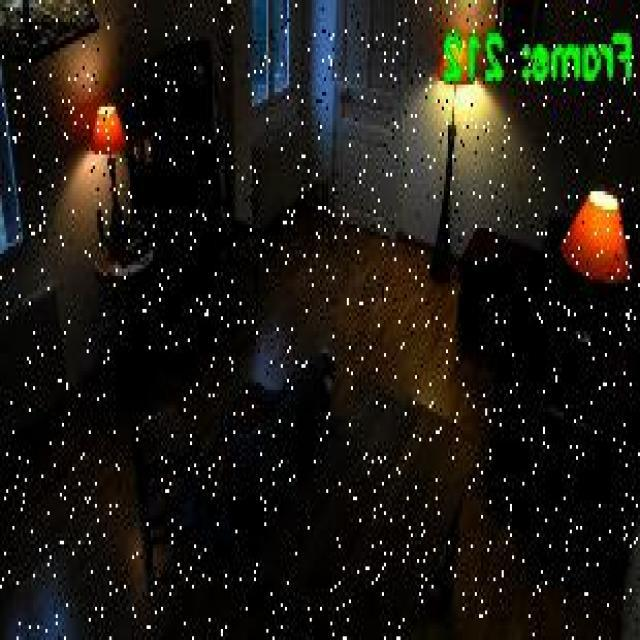fall: (205, 346, 336, 552)
